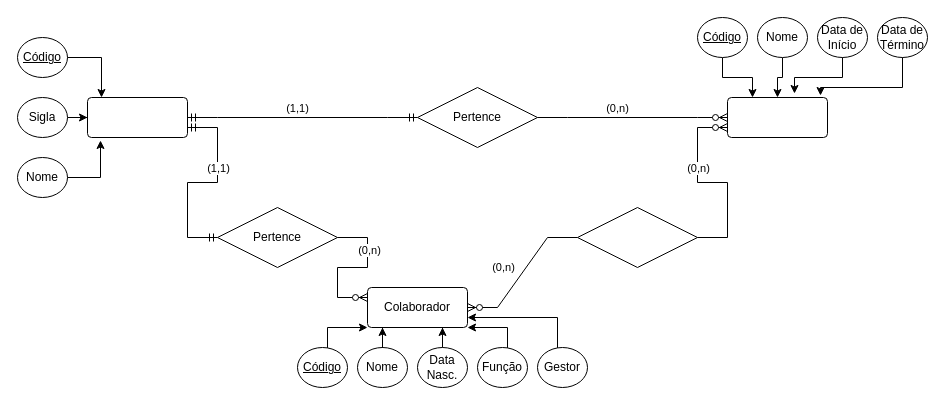
Image size: 945x405. Some labels were removed from this diagram. The shapes that lost their labels are listed below. From the top down, each one's centre as x and y in pixels, then its label:
At (137,117): "Departamento".
At (777,117): "Projeto".
At (637,237): "ProjetoColaborador".
